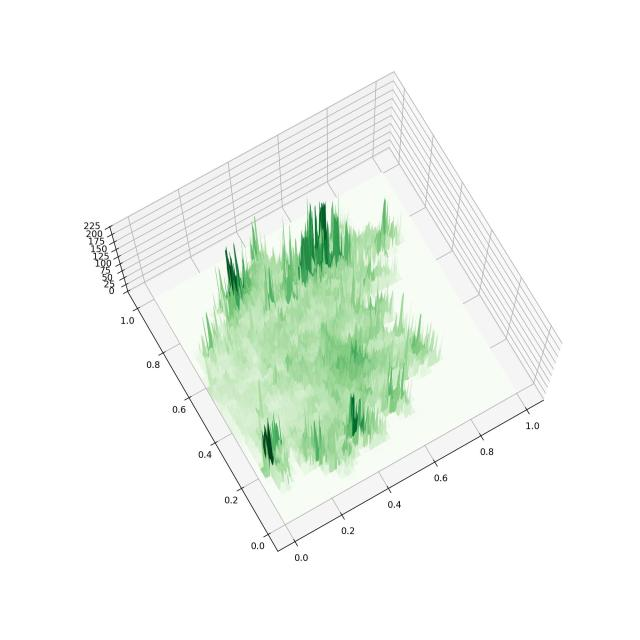spruce: (49, 36, 584, 588)
